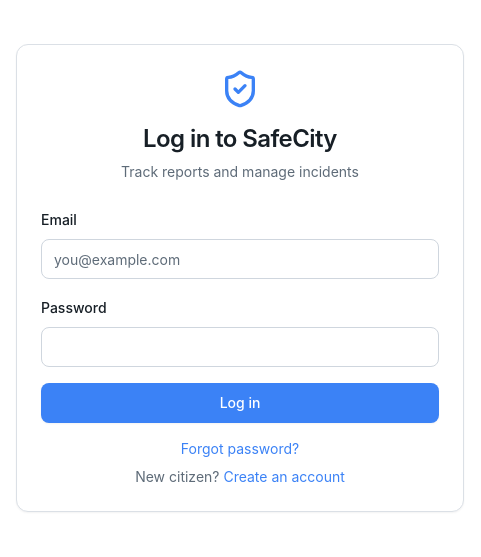
LoginPage › shows validation errors for empty submission
Step 1. Click the button "Log in" → (240, 403), box x1=41 y1=383 x2=439 y2=423
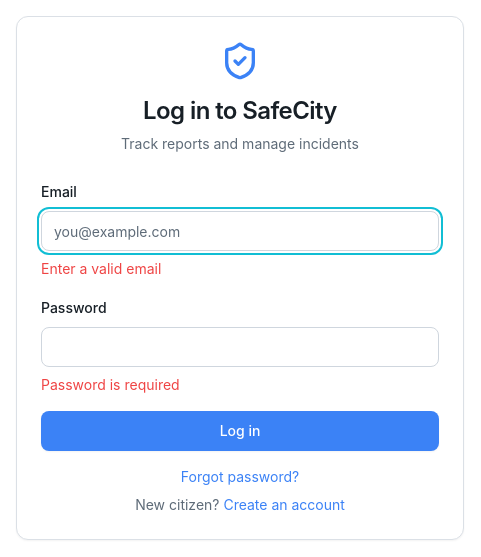
expect the number of messages is 2: met, box x1=41 y1=260 x2=161 y2=277; x1=41 y1=376 x2=180 y2=393
